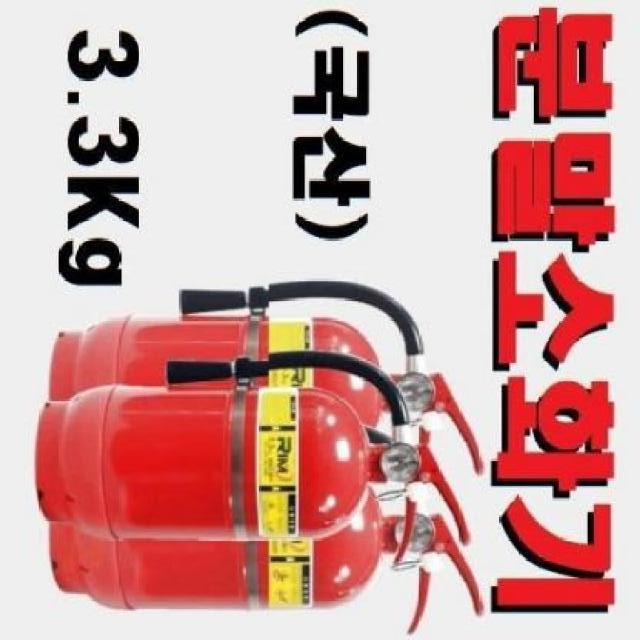fire extinguisher: (34, 349, 472, 566), (46, 280, 486, 477), (50, 483, 485, 635)
